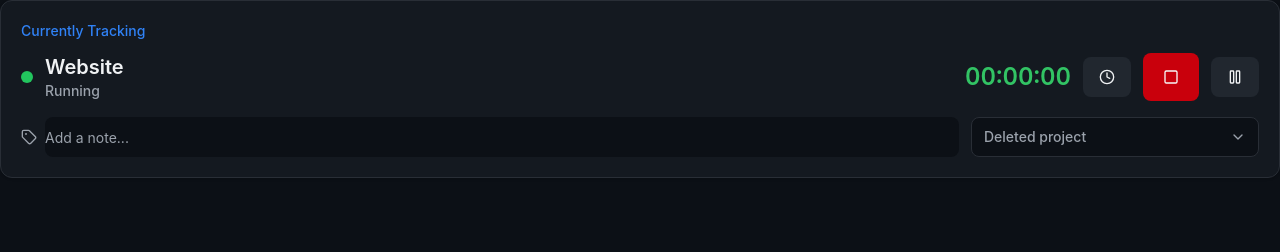
CurrentlyTrackingCard – note behaviour › shows suggestions from past notes and saves a clicked suggestion
Type "dai" into the dropdown labelled "Add a note". click: [502, 137]
box: [45,117,959,157]
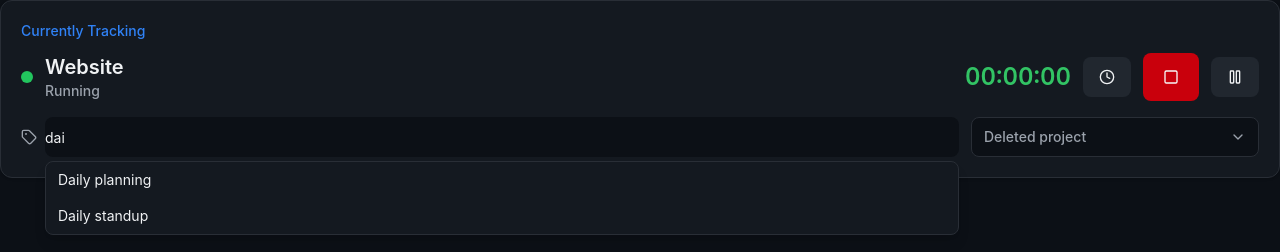
Expected: the list is shown, [45,161,959,235]
Click the option "Daily standup". click: [103, 216]
box: [58,207,148,224]
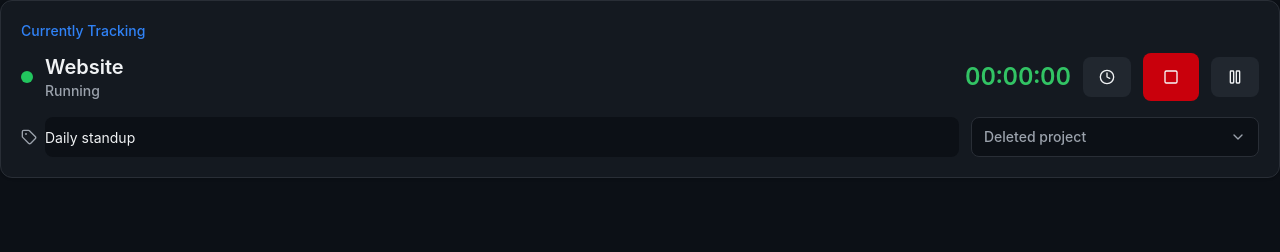
Expected: the dropdown named "Add a note" holds "Daily standup", [45,117,959,157]
Expected: the list is gone
